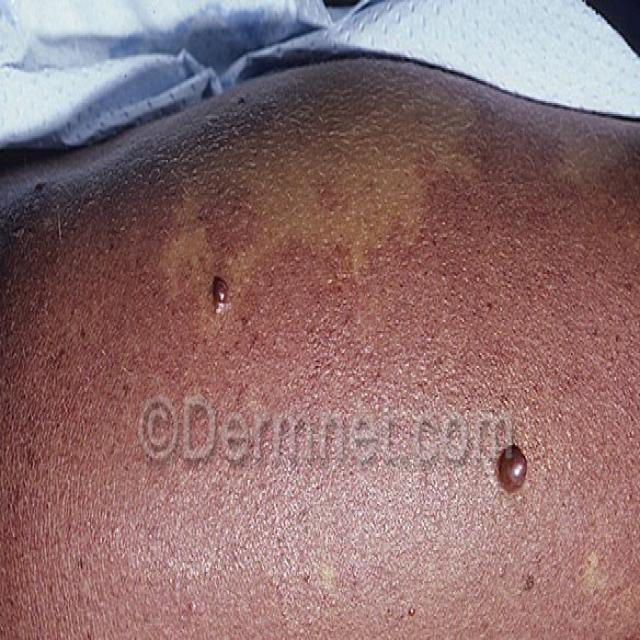Vascular Tumors: (486, 418, 539, 522), (199, 244, 244, 331)
